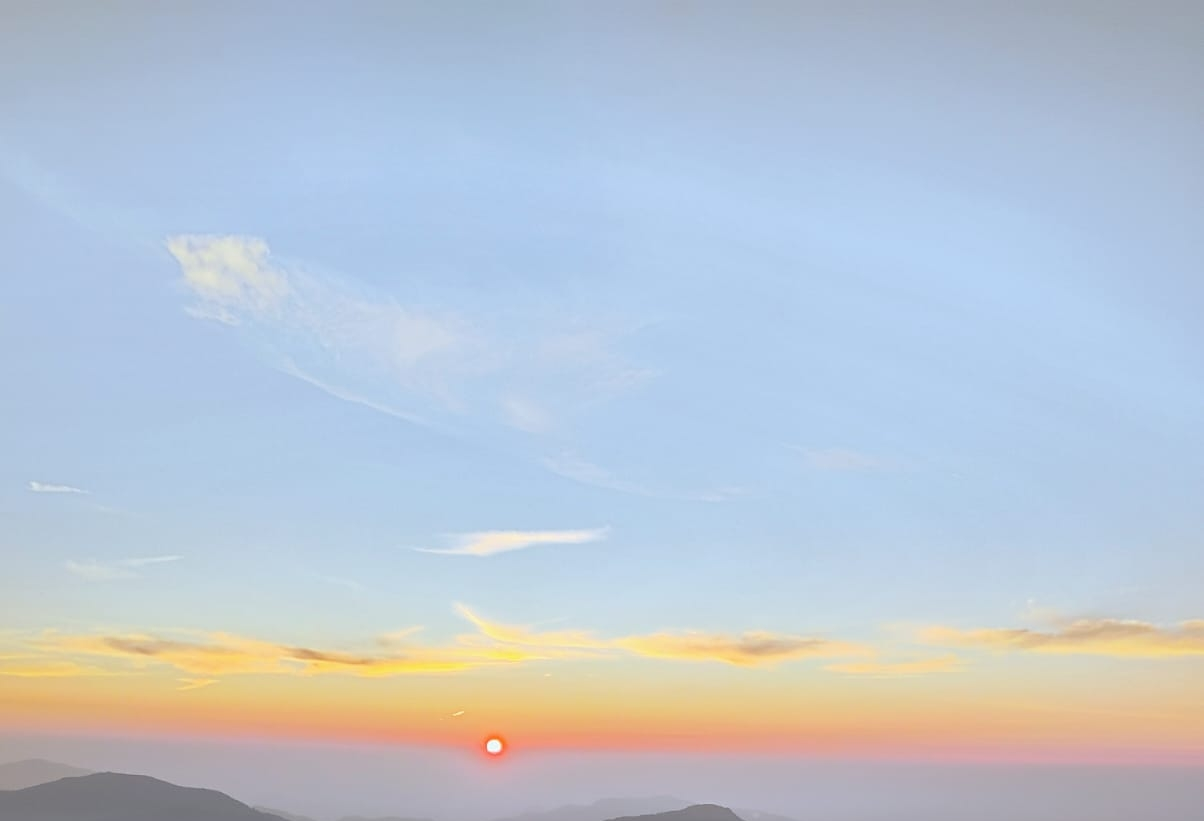sun: (480, 735, 507, 758)
